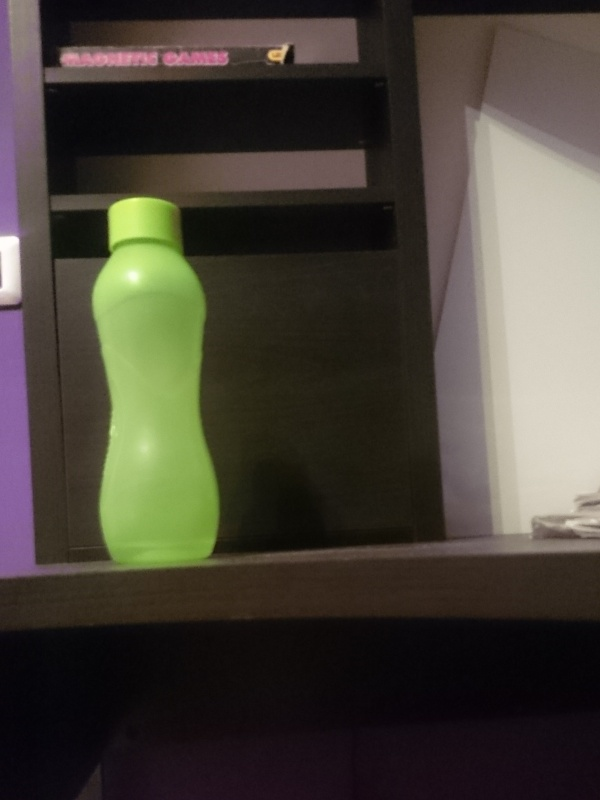my bottle: (90, 198, 218, 567)
